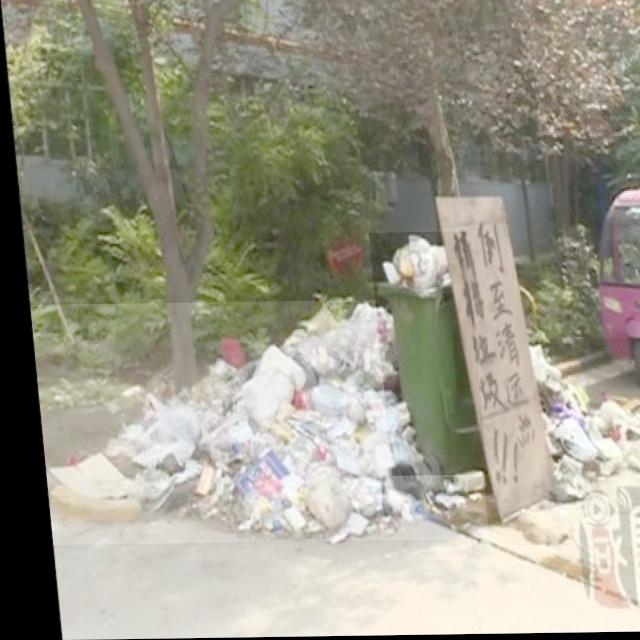garbage: (25, 300, 479, 545), (520, 340, 640, 503)
overflow: (365, 233, 479, 477)
